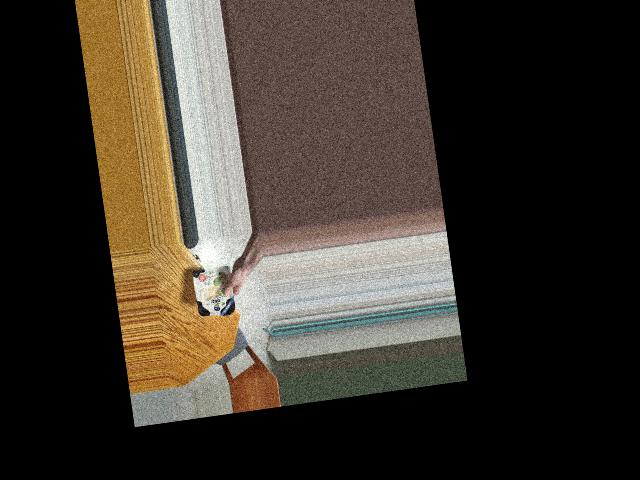cheese: (192, 262, 239, 319)
